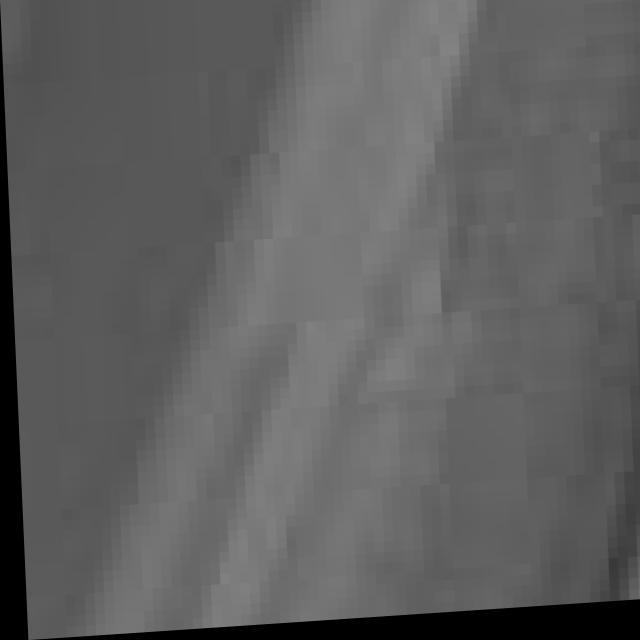fracture: (20, 0, 640, 629)
